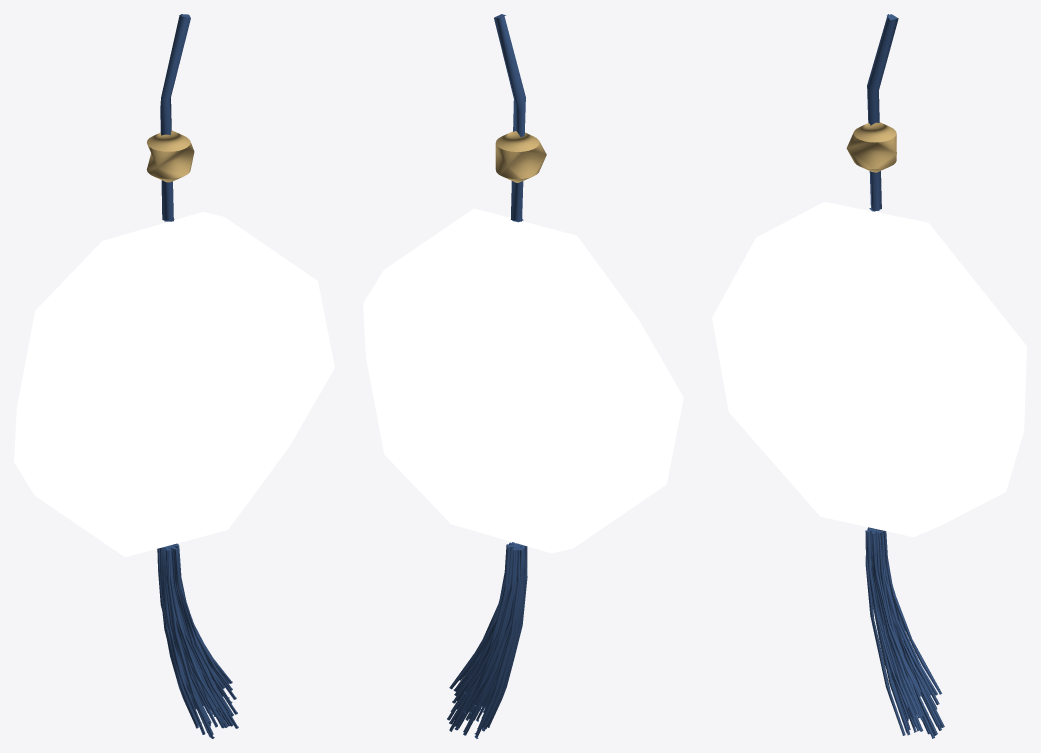
The model's file is bong-trang-ho-guong.glb.
3 renders of one model, left to right at view 1: azimuth 30°, elevation 25°; view 2: azimuth 150°, elevation 25°; view 3: azimuth 330°, elevation 25°, orthographic.
Visible parts, largest first — view 1: bi, tassel, bead, cord; view 2: bi, tassel, moon, bead, cord; view 3: bi, tassel, bead, cord.
Part boxes in pixels (box(x1,y1,x2,y2)): bi: box(14, 212, 334, 557); tassel: box(157, 543, 238, 738); bead: box(146, 130, 194, 182); cord: box(160, 14, 190, 221); bi: box(363, 208, 683, 553); tassel: box(447, 542, 527, 738); moon: box(466, 335, 556, 433); bead: box(495, 131, 546, 182); cord: box(494, 14, 525, 222); bi: box(712, 202, 1026, 536); tassel: box(865, 527, 944, 738); bead: box(846, 122, 896, 172); cord: box(867, 14, 898, 211).
Size of the model in its own units: 0.3672 by 0.8022 by 0.0524.
